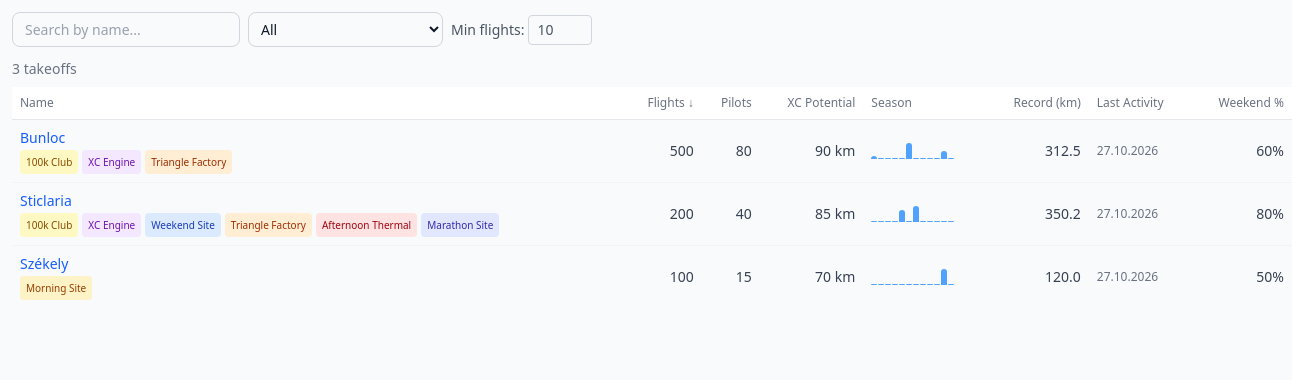
Test case: TakeoffsTable › shows dormant takeoffs with dormant filter
// Clear minFlights so Dormant Site (5 flights) isn't excluded
Clear the number field. click: (560, 30)
box: [528,14,592,44]
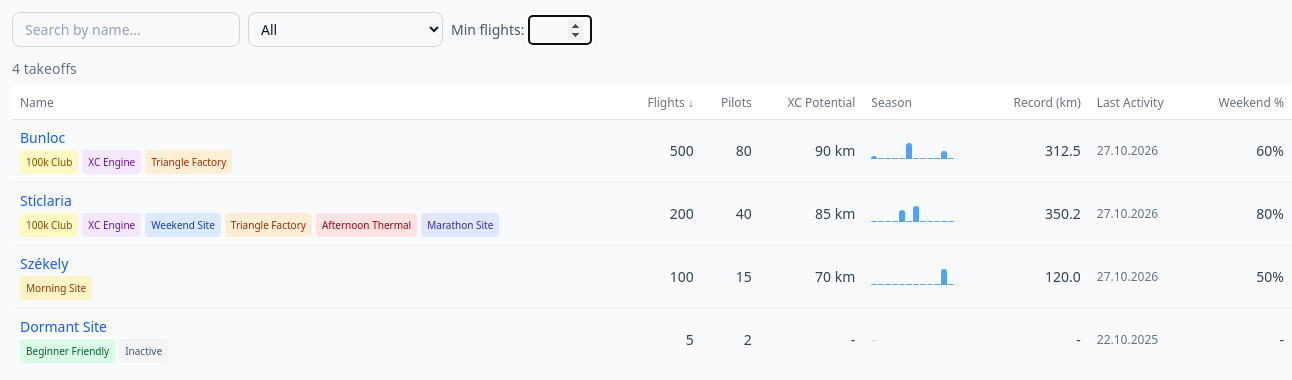
Select "No flights in over a year" in the dropdown showing "All". click: (346, 30)
box: [248,12,443,47]
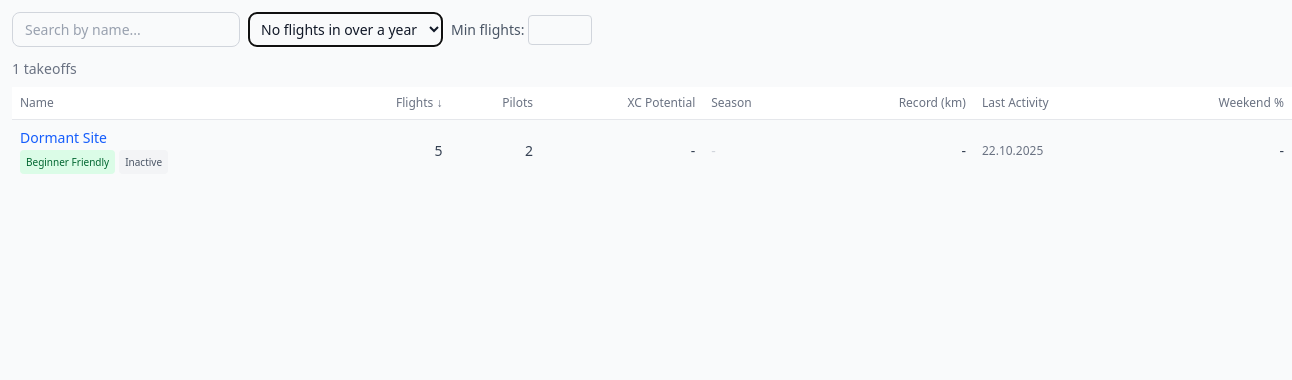
Check: the link "Dormant Site" is shown, box [20,128,107,147]
Check: the link "Bunloc" is gone
